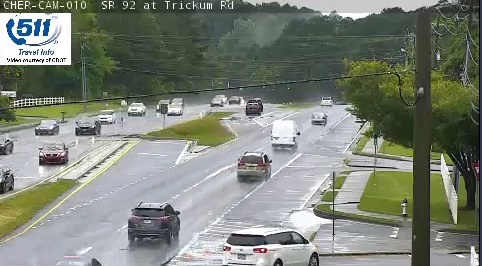car: (127, 204, 180, 239), (236, 152, 270, 177), (312, 113, 327, 126)
van: (272, 120, 297, 148)
